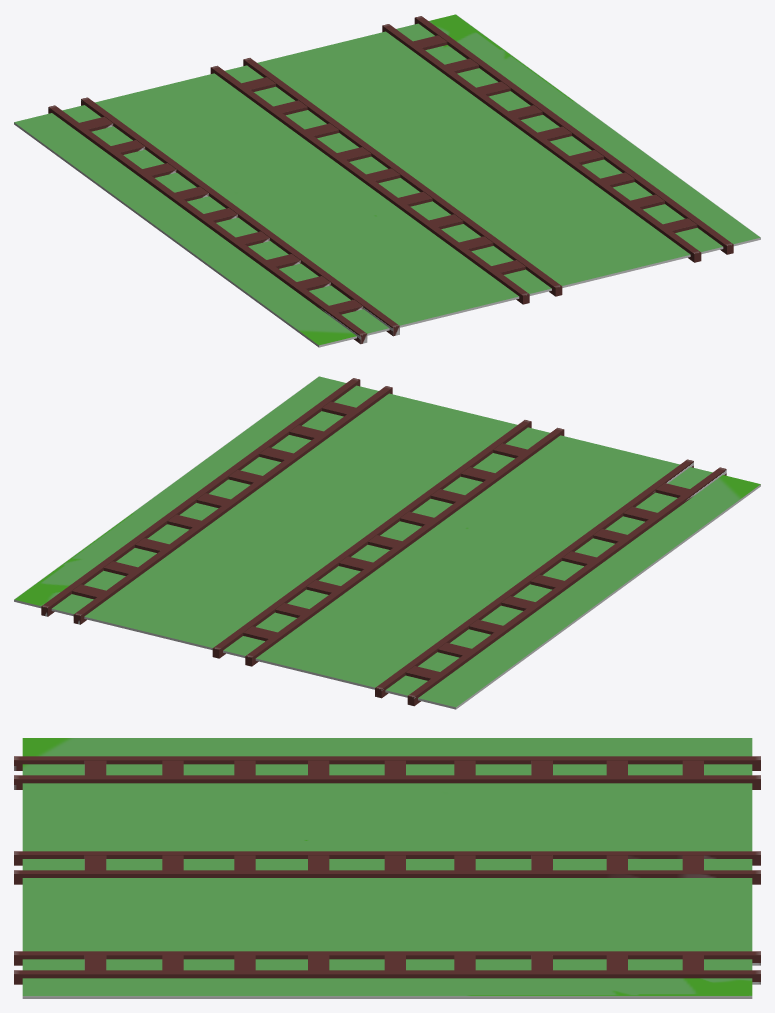
Rendered from track.glb.
3 views of the same model, one above another, from view 1: azimuth 30°, elevation 25°; view 2: azimuth 150°, elevation 25°; view 3: azimuth 270°, elevation 25° (orthographic). The views are drawn at different scales.
Parts seen in each view (by area): view 1: Cube, Cube.002, Cube.010, Cube.001; view 2: Cube, Cube.001, Cube.002, Cube.010; view 3: Cube, Cube.010, Cube.001, Cube.002.
Part boxes in pixels (<box>): Cube: <box>14,14,760,347</box>; Cube.002: <box>210,58,562,304</box>; Cube.010: <box>382,16,733,262</box>; Cube.001: <box>48,97,399,344</box>; Cube: <box>14,376,760,709</box>; Cube.001: <box>375,459,726,706</box>; Cube.002: <box>212,420,564,666</box>; Cube.010: <box>41,378,392,624</box>; Cube: <box>22,738,752,998</box>; Cube.010: <box>14,951,760,984</box>; Cube.001: <box>14,756,760,789</box>; Cube.002: <box>14,851,760,884</box>.
Bounding box in the file's own units: 21.04 × 0.4 × 25.74.
Materials: 4 (4 with a texture image).
